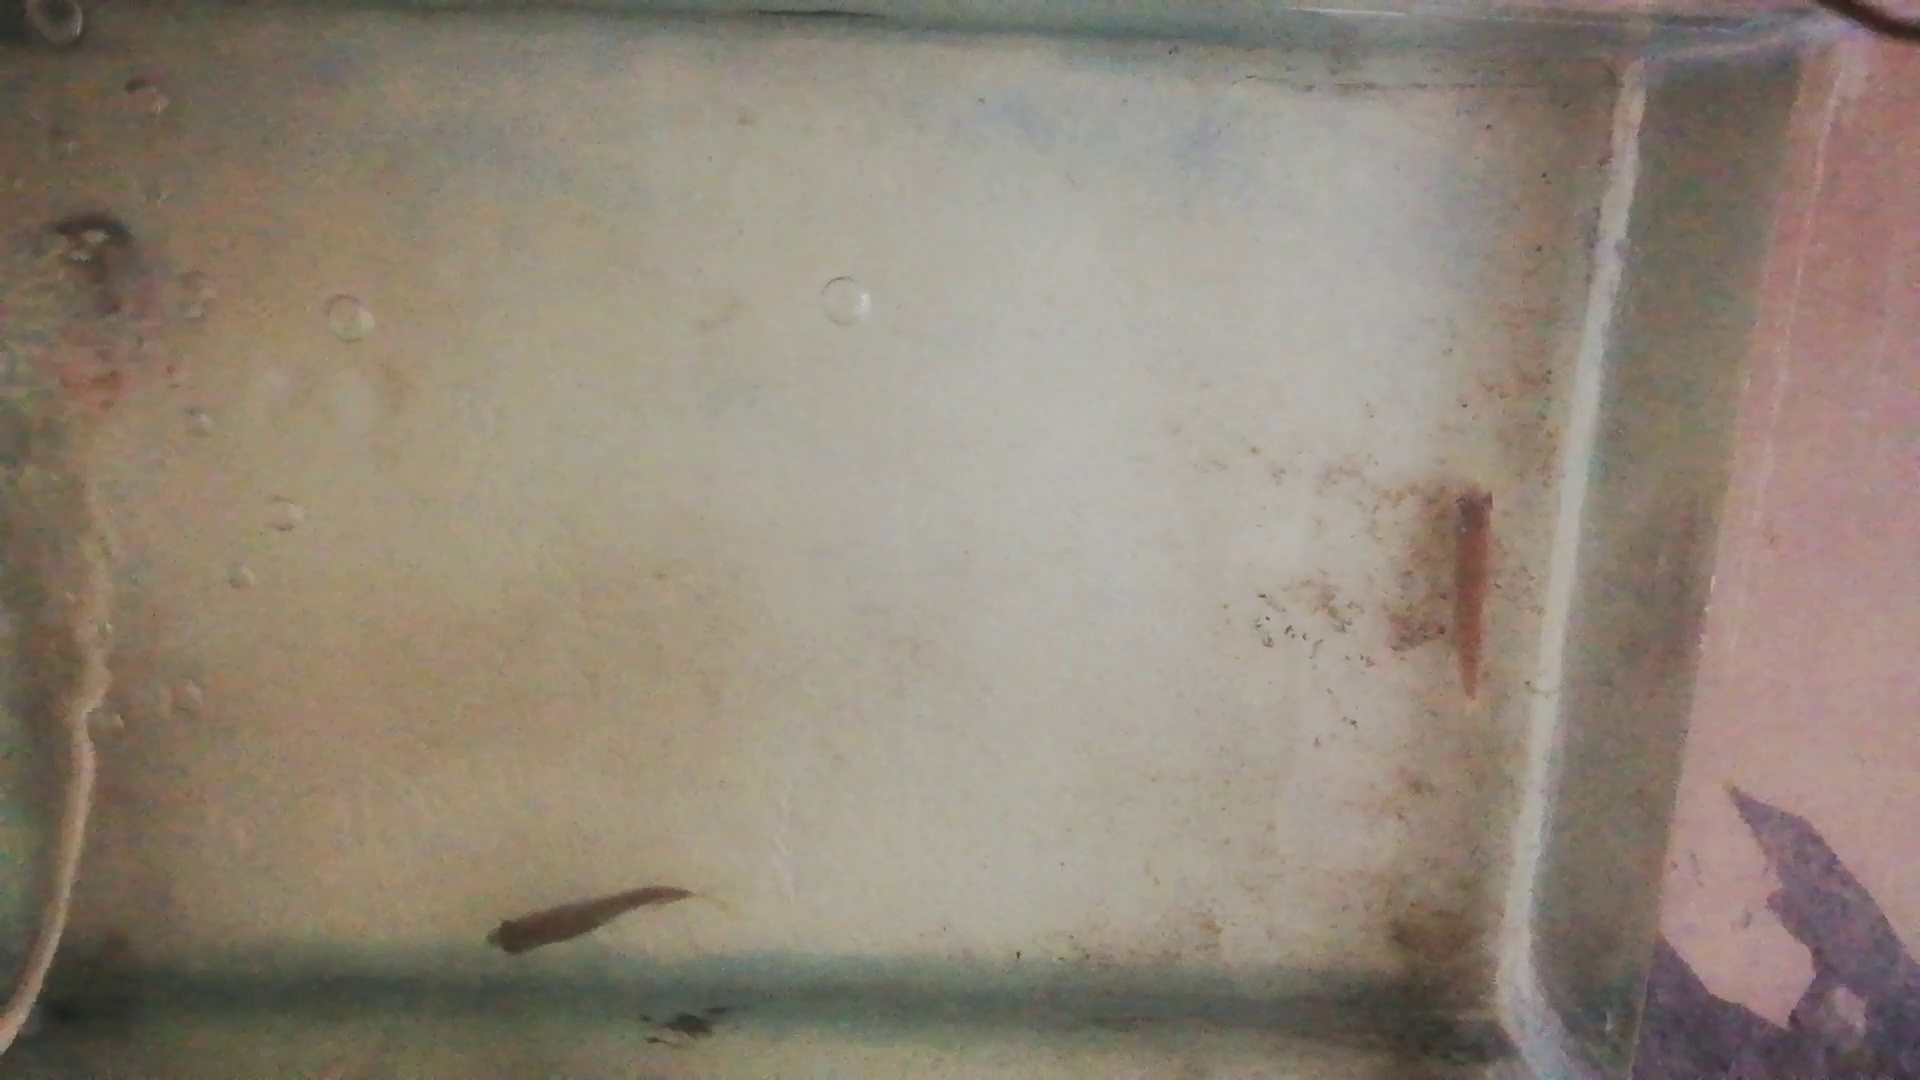fish: (487, 887, 692, 956), (1455, 485, 1495, 702)
